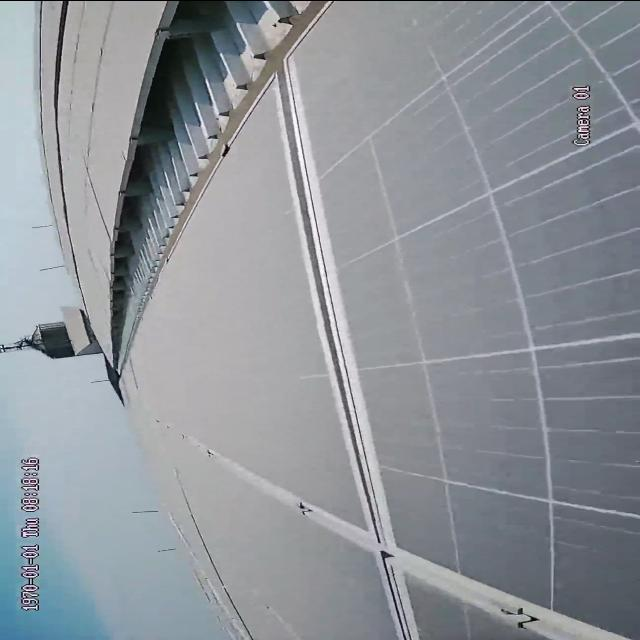interior panel: (194, 61, 630, 638)
outher panel: (110, 2, 331, 369)
